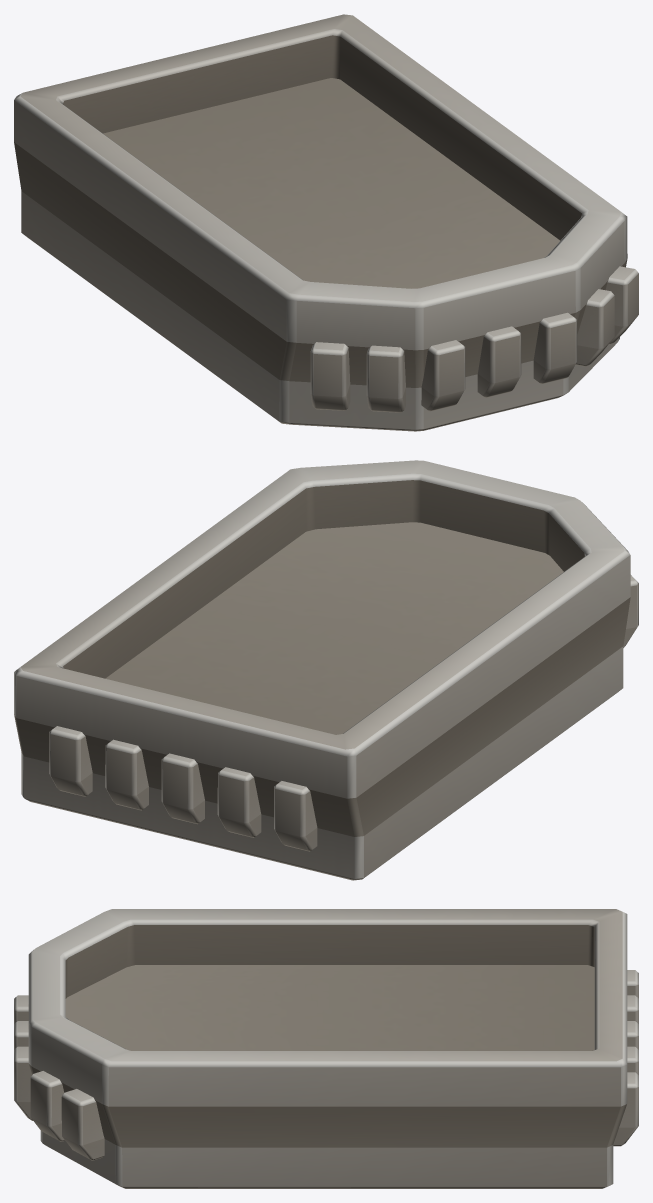
Rendered from appartment_type4_roof_type2_grey.fbx.
The picture shows the model from 3 angles, top to bottom: view 1: azimuth 30°, elevation 25°; view 2: azimuth 150°, elevation 25°; view 3: azimuth 270°, elevation 25°; orthographic projection. The views are drawn at different scales.
Parts seen in each view (by area): view 1: appartment_type4_roof_type2_grey; view 2: appartment_type4_roof_type2_grey; view 3: appartment_type4_roof_type2_grey.
Boxes of the visible parts, <box> form: appartment_type4_roof_type2_grey: <box>14,14,638,431</box>; appartment_type4_roof_type2_grey: <box>14,460,638,880</box>; appartment_type4_roof_type2_grey: <box>14,909,638,1188</box>.
Bounding box in the file's own units: 610 × 232 × 1032.
